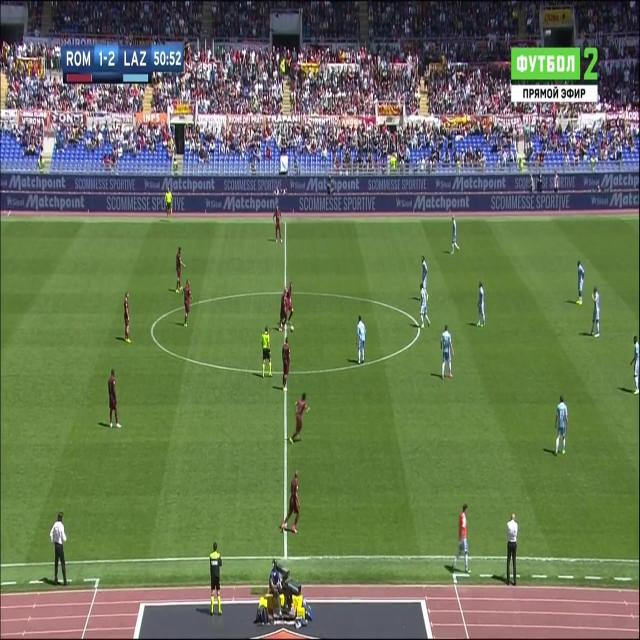Ball: (290, 323, 296, 333)
Player: (280, 469, 302, 538), (288, 390, 312, 447), (554, 392, 570, 460), (106, 368, 122, 432), (440, 322, 456, 381), (354, 310, 368, 366), (589, 284, 602, 340), (182, 277, 195, 331), (280, 336, 292, 394), (629, 335, 640, 397), (175, 242, 187, 296), (419, 282, 432, 328), (476, 279, 487, 332), (576, 257, 586, 310), (272, 203, 284, 247), (123, 289, 132, 346), (278, 288, 289, 332), (450, 216, 460, 258), (420, 253, 430, 293), (286, 280, 294, 323)
Referee: (260, 325, 273, 379), (163, 188, 173, 222)
